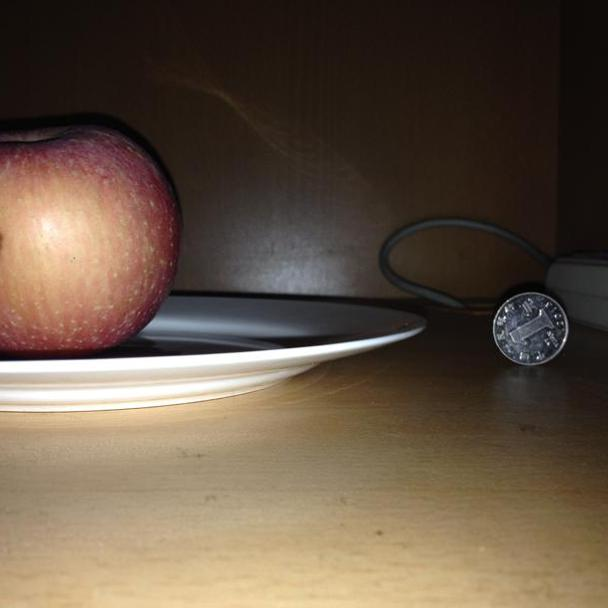apple: (1, 126, 182, 361)
